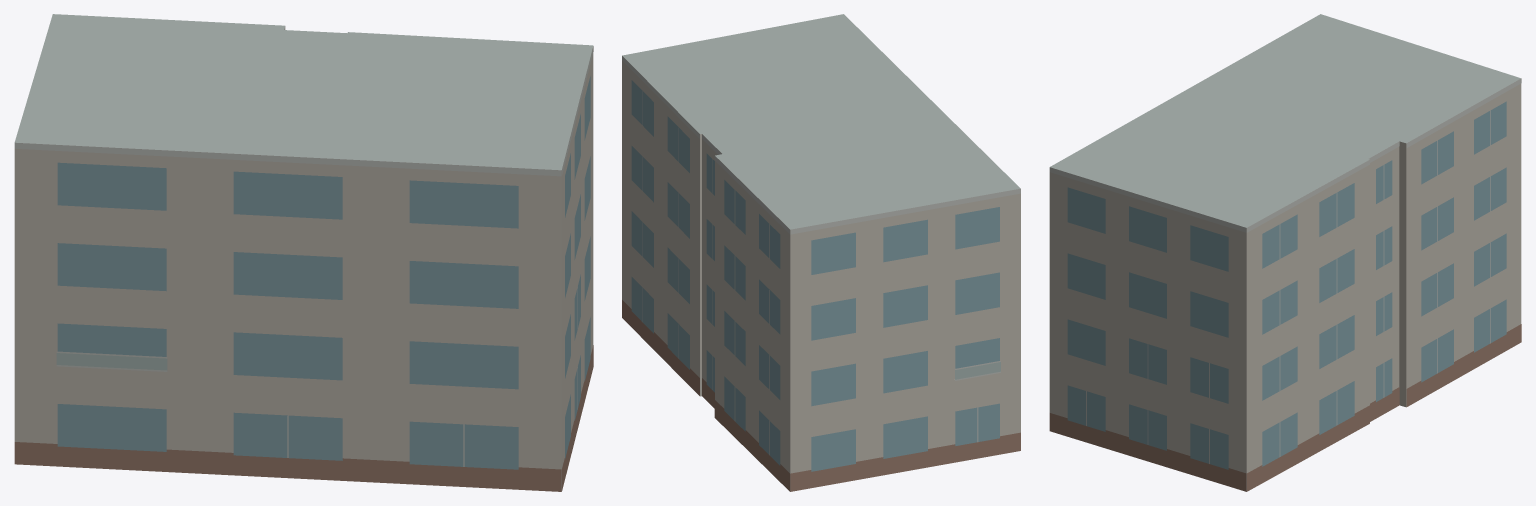
Rendered from survey-upis-32971153.glb.
3 views of the same model, side by side, from view 1: azimuth 30°, elevation 25°; view 2: azimuth 150°, elevation 25°; view 3: azimuth 270°, elevation 25° (orthographic). The views are drawn at different scales.
Parts seen in each view (by area): view 1: survey-upis-32971153.tmp; view 2: survey-upis-32971153.tmp; view 3: survey-upis-32971153.tmp.
Part boxes in pixels (x1,y1,x2,y2): survey-upis-32971153.tmp: [14, 14, 593, 491]; survey-upis-32971153.tmp: [622, 14, 1020, 491]; survey-upis-32971153.tmp: [1049, 14, 1521, 491].
Bounding box in the file's own units: 22.42 × 12.9 × 20.9.
